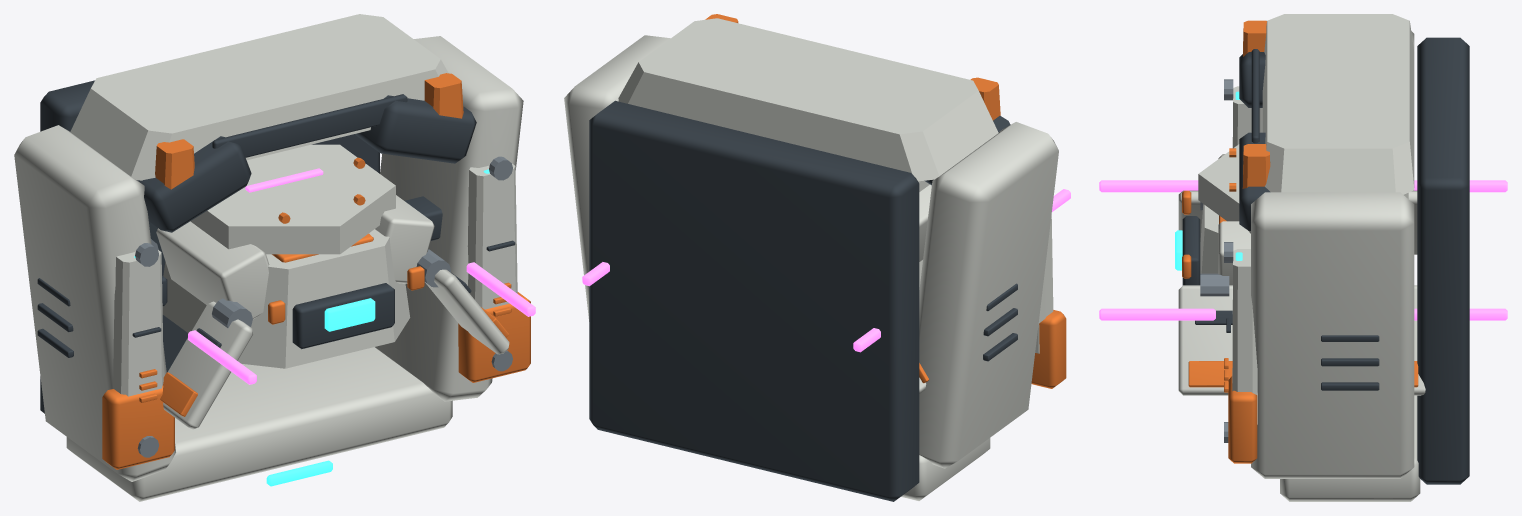
The model's file is VXDR_JAMMER_v003_DOCKED.fbx.
3 views of the same model, side by side, from view 1: azimuth 30°, elevation 25°; view 2: azimuth 150°, elevation 25°; view 3: azimuth 270°, elevation 25° (orthographic). The views are drawn at different scales.
Parts seen in each view (by area): view 1: Docked_Faceted top bridge, Docked_Cradle armored rail, Docked_Bottom charging bridge, Docked_Cradle armored rail.001, Docked_Hexagonal resonator, Docked_Faceted sensor hull, Docked_Sloped cheek armor, Docked_Side armor panel, Docked_Side armor panel.001, Docked_Angled cradle brow, Docked_Angled cradle brow.001, Docked_Rail orange latch (+18 smaller); view 2: Docked_Body mounting plate, Docked_Cradle armored rail, Docked_Faceted top bridge, Docked_Cradle armored rail.001, Docked_Rail orange latch, Docked_Bottom charging bridge, Docked_Side armor panel, Docked_Top orange lock, Docked_Sloped cheek armor; view 3: Docked_Cradle armored rail.001, Docked_Faceted top bridge, Docked_Body mounting plate, Docked_Foldable stabilizer.002, Docked_Bottom charging bridge, Docked_Side armor panel.001, Docked_Hexagonal resonator, Docked_Rail orange latch.001, Docked_Jamming aerial.002, Docked_Jamming aerial, Docked_Faceted sensor hull, Docked_Sensor recess (+14 smaller).
Part boxes in pixels (<box>): Docked_Faceted top bridge: <box>70,14,448,180</box>; Docked_Cradle armored rail: <box>14,125,175,481</box>; Docked_Bottom charging bridge: <box>66,347,452,501</box>; Docked_Cradle armored rail.001: <box>375,36,523,401</box>; Docked_Hexagonal resonator: <box>190,144,395,254</box>; Docked_Faceted sensor hull: <box>162,229,410,368</box>; Docked_Sloped cheek armor: <box>156,221,269,319</box>; Docked_Side armor panel: <box>113,250,163,396</box>; Docked_Side armor panel.001: <box>467,163,517,309</box>; Docked_Angled cradle brow: <box>137,136,251,232</box>; Docked_Angled cradle brow.001: <box>354,95,476,163</box>; Docked_Rail orange latch: <box>102,385,174,469</box>; Docked_Body mounting plate: <box>589,100,919,501</box>; Docked_Cradle armored rail: <box>919,122,1058,468</box>; Docked_Faceted top bridge: <box>618,18,998,181</box>; Docked_Cradle armored rail.001: <box>564,35,670,321</box>; Docked_Rail orange latch: <box>1031,310,1066,388</box>; Docked_Bottom charging bridge: <box>901,438,990,500</box>; Docked_Side armor panel: <box>1035,215,1053,353</box>; Docked_Top orange lock: <box>970,77,1000,120</box>; Docked_Sloped cheek armor: <box>919,184,931,261</box>; Docked_Cradle armored rail.001: <box>1251,192,1414,478</box>; Docked_Faceted top bridge: <box>1262,14,1414,194</box>; Docked_Body mounting plate: <box>1417,37,1469,484</box>; Docked_Foldable stabilizer.002: <box>1178,285,1232,395</box>; Docked_Bottom charging bridge: <box>1280,395,1420,501</box>; Docked_Side armor panel.001: <box>1232,249,1257,424</box>; Docked_Hexagonal resonator: <box>1198,144,1408,233</box>; Docked_Rail orange latch.001: <box>1228,376,1257,463</box>; Docked_Jamming aerial.002: <box>1099,308,1215,320</box>; Docked_Jamming aerial: <box>1099,180,1198,192</box>; Docked_Faceted sensor hull: <box>1200,204,1218,273</box>; Docked_Sensor recess: <box>1182,216,1200,285</box>.
Size of the model in its own units: 40.81 by 33.85 by 35.
